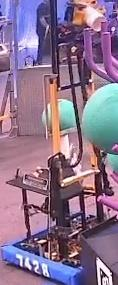blue_number: (15, 252, 52, 279)
